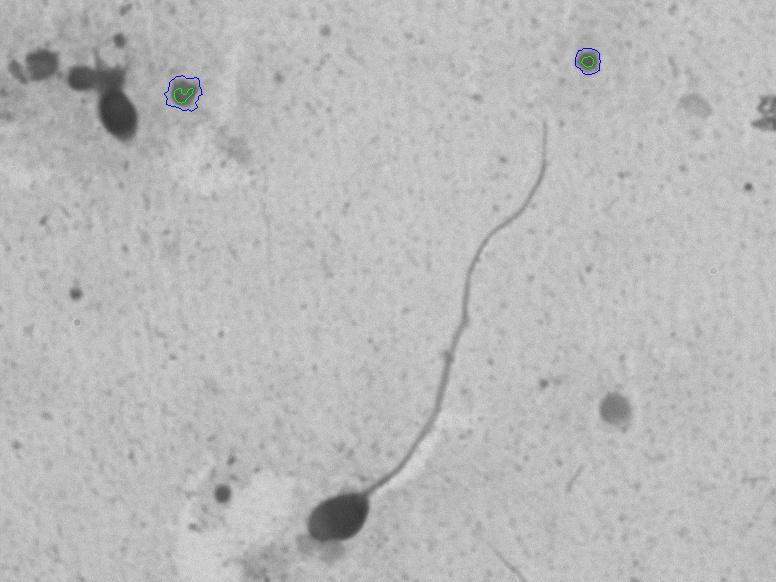Abnormal: (282, 120, 612, 553)
